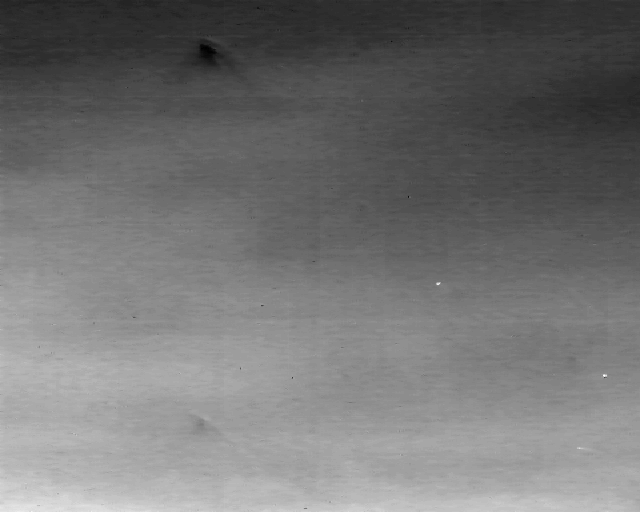Target: (602, 375, 608, 380), (437, 283, 442, 287), (578, 448, 585, 450)
